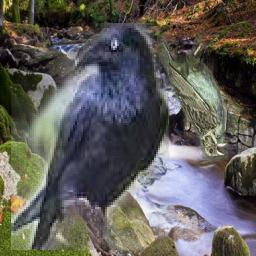Crow: (11, 24, 169, 251)
Sparrow: (158, 27, 229, 165)
